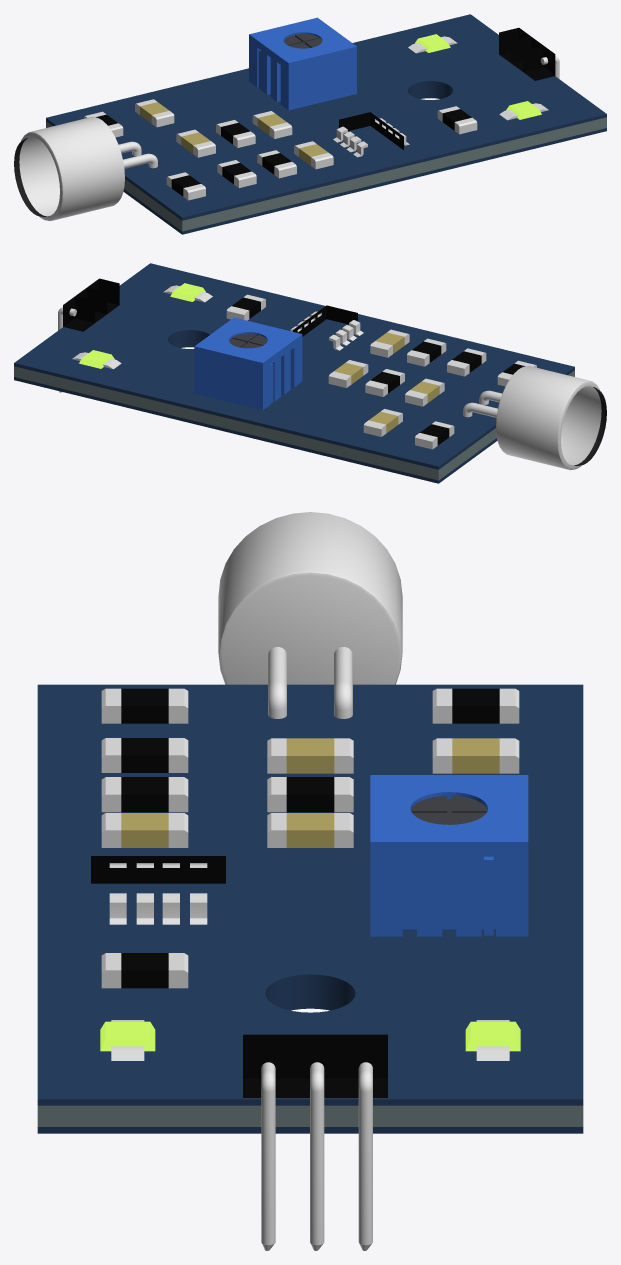
The picture shows the model from 3 angles, top to bottom: view 1: azimuth 30°, elevation 25°; view 2: azimuth 150°, elevation 25°; view 3: azimuth 270°, elevation 25°; orthographic projection. The views are drawn at different scales.
Parts seen in each view (by area): view 1: Plane.052_3, Circle.033_19, Plane.054_5, Plane.055_6, Plane.053_4, Plane.056_7, Plane.057_8, Plane.066_17, Plane.065_16, Plane.063_14, Plane.059_10, Plane.061_12 (+7 smaller); view 2: Plane.052_3, Circle.033_19, Plane.054_5, Plane.055_6, Plane.053_4, Plane.056_7, Plane.057_8, Plane.065_16, Plane.063_14, Plane.058_9, Plane.060_11, Plane.061_12 (+7 smaller); view 3: Plane.052_3, Circle.033_19, Plane.054_5, Plane.055_6, Circle.031_0, Plane.053_4, Plane.056_7, Plane.057_8, Plane.066_17, Plane.061_12, Plane.067_18, Plane.058_9 (+8 smaller).
Boxes of the visible parts, <box> form: Plane.052_3: <box>46,14,606,234</box>; Circle.033_19: <box>14,117,124,221</box>; Plane.054_5: <box>249,34,356,110</box>; Plane.055_6: <box>249,17,356,65</box>; Plane.053_4: <box>499,27,555,80</box>; Plane.056_7: <box>333,112,409,157</box>; Plane.057_8: <box>408,34,548,120</box>; Plane.066_17: <box>437,106,477,134</box>; Plane.065_16: <box>252,111,292,138</box>; Plane.063_14: <box>176,129,215,157</box>; Plane.059_10: <box>166,172,205,200</box>; Plane.061_12: <box>257,150,296,178</box>; Plane.052_3: <box>14,263,574,483</box>; Circle.033_19: <box>496,366,606,470</box>; Plane.054_5: <box>194,334,302,410</box>; Plane.055_6: <box>194,317,301,367</box>; Plane.053_4: <box>63,278,119,331</box>; Plane.056_7: <box>290,305,363,350</box>; Plane.057_8: <box>72,283,212,369</box>; Plane.065_16: <box>328,360,368,387</box>; Plane.063_14: <box>405,378,444,406</box>; Plane.058_9: <box>415,421,454,449</box>; Plane.060_11: <box>447,348,486,376</box>; Plane.061_12: <box>407,338,446,366</box>; Plane.052_3: <box>37,684,583,1133</box>; Circle.033_19: <box>218,512,402,684</box>; Plane.054_5: <box>370,842,528,936</box>; Plane.055_6: <box>370,775,528,852</box>; Circle.031_0: <box>261,1062,372,1250</box>; Plane.053_4: <box>243,1034,387,1097</box>; Plane.056_7: <box>91,856,225,924</box>; Plane.057_8: <box>100,1020,520,1060</box>; Plane.066_17: <box>101,953,188,988</box>; Plane.061_12: <box>101,777,188,812</box>; Plane.067_18: <box>432,738,519,773</box>; Plane.058_9: <box>432,688,519,723</box>.
Bounding box in the file's own units: 0.5762 × 0.1306 × 0.2636.
